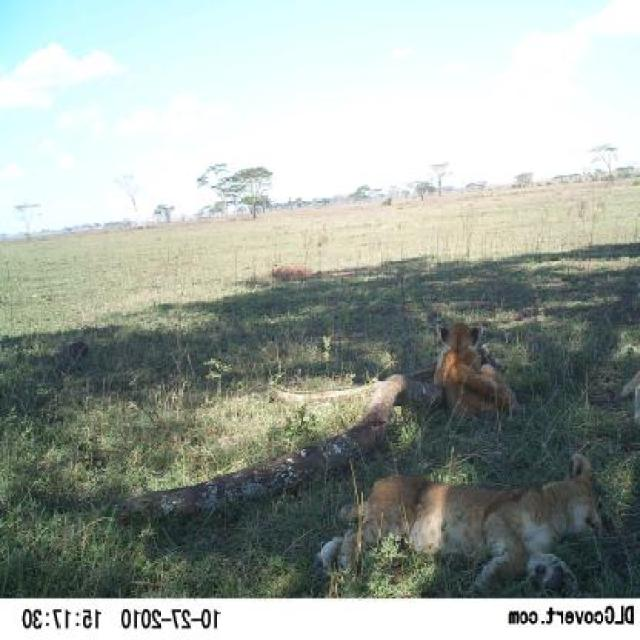Lion: (328, 452, 623, 602), (412, 308, 545, 443)
